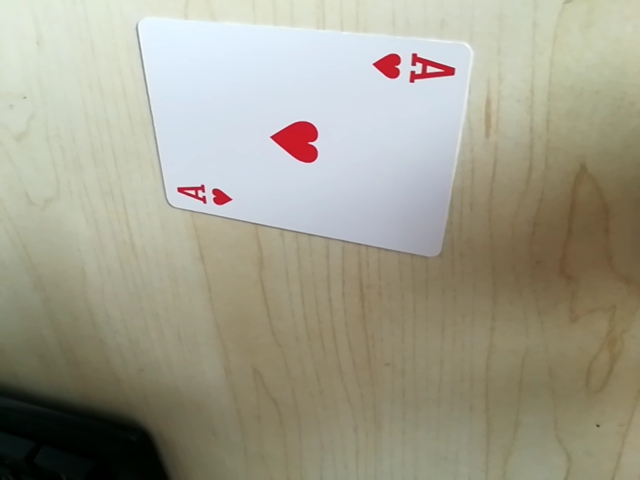hx a: (370, 44, 457, 93), (168, 178, 238, 211)
